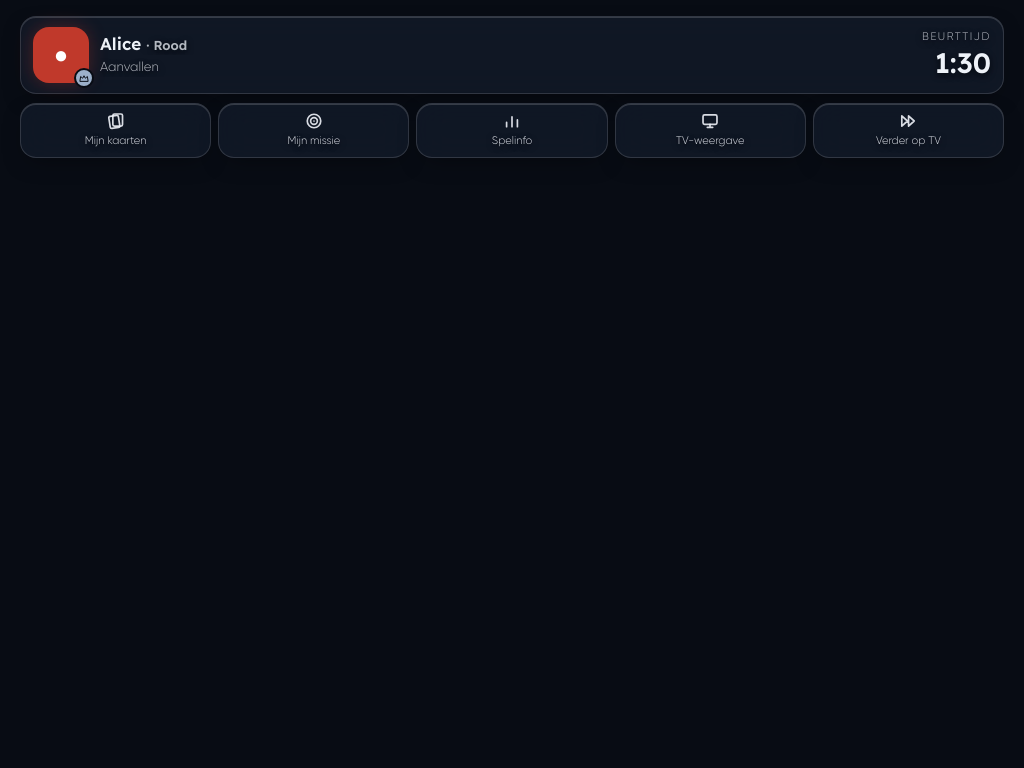
Test: PhonePlayerHeader › auto-pass (DESIGN.md § Auto-pass) › laat de host via Spelinfo › Stand een speler op auto-pass zetten, na bevestiging
Click the button "Spelinfo" at (512, 130), box [417,104,607,157]
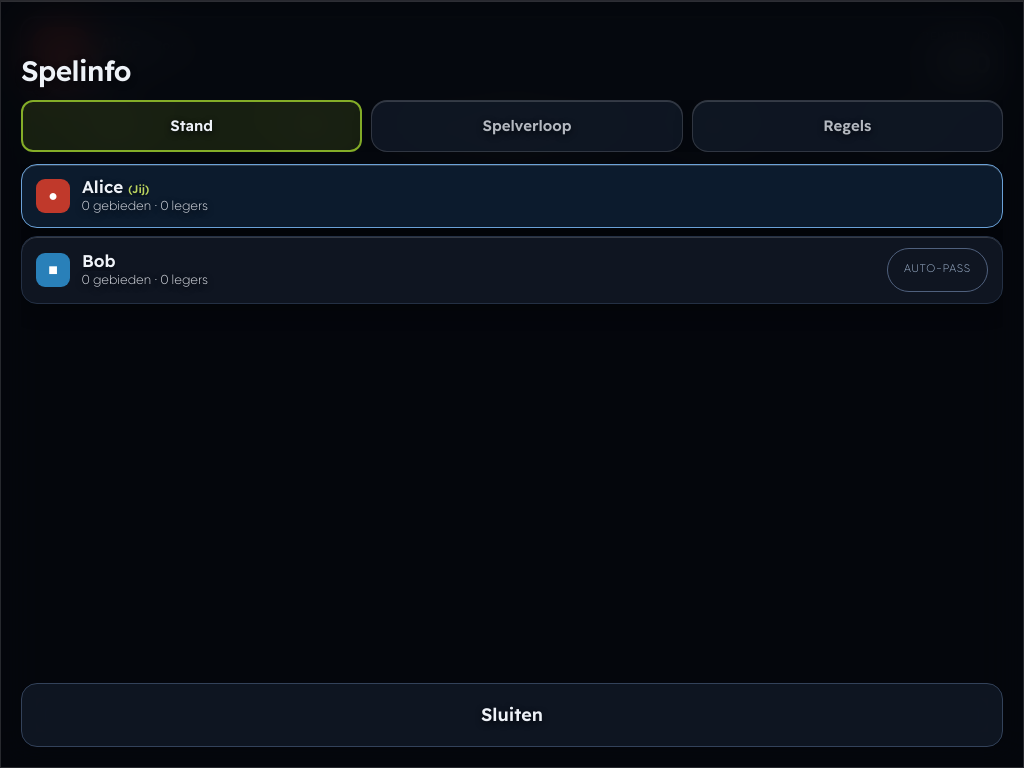
Click the button with aria-label "Bob op auto-pass zetten" at (938, 270), box [887,248,988,292]
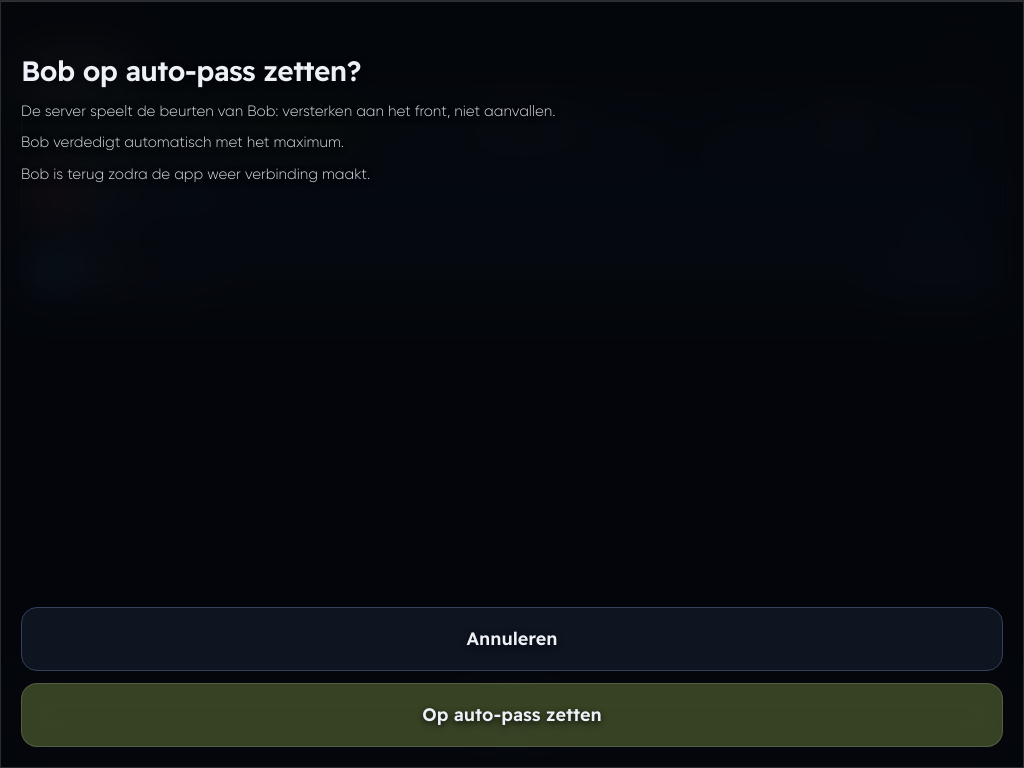
expect the heading "Bob op auto-pass zetten?" is shown: met, box [21,53,361,88]
Click the button "Op auto-pass zetten" at (512, 715), box [21,683,1003,747]
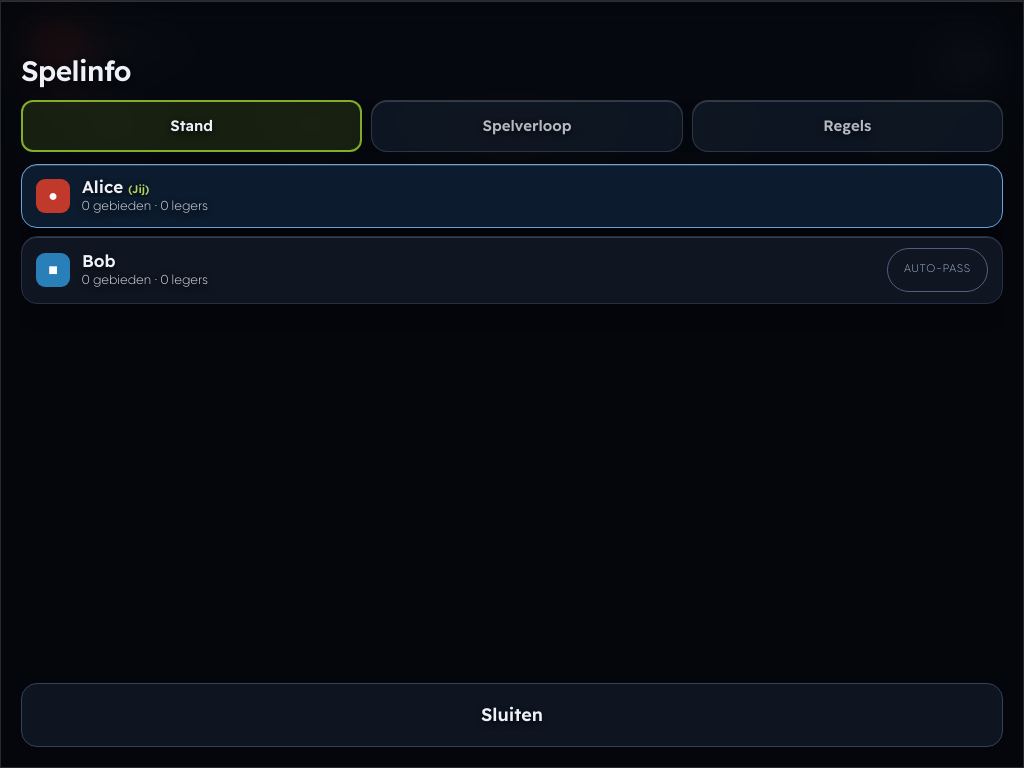
expect the heading "Bob op auto-pass zetten?" is gone: met
